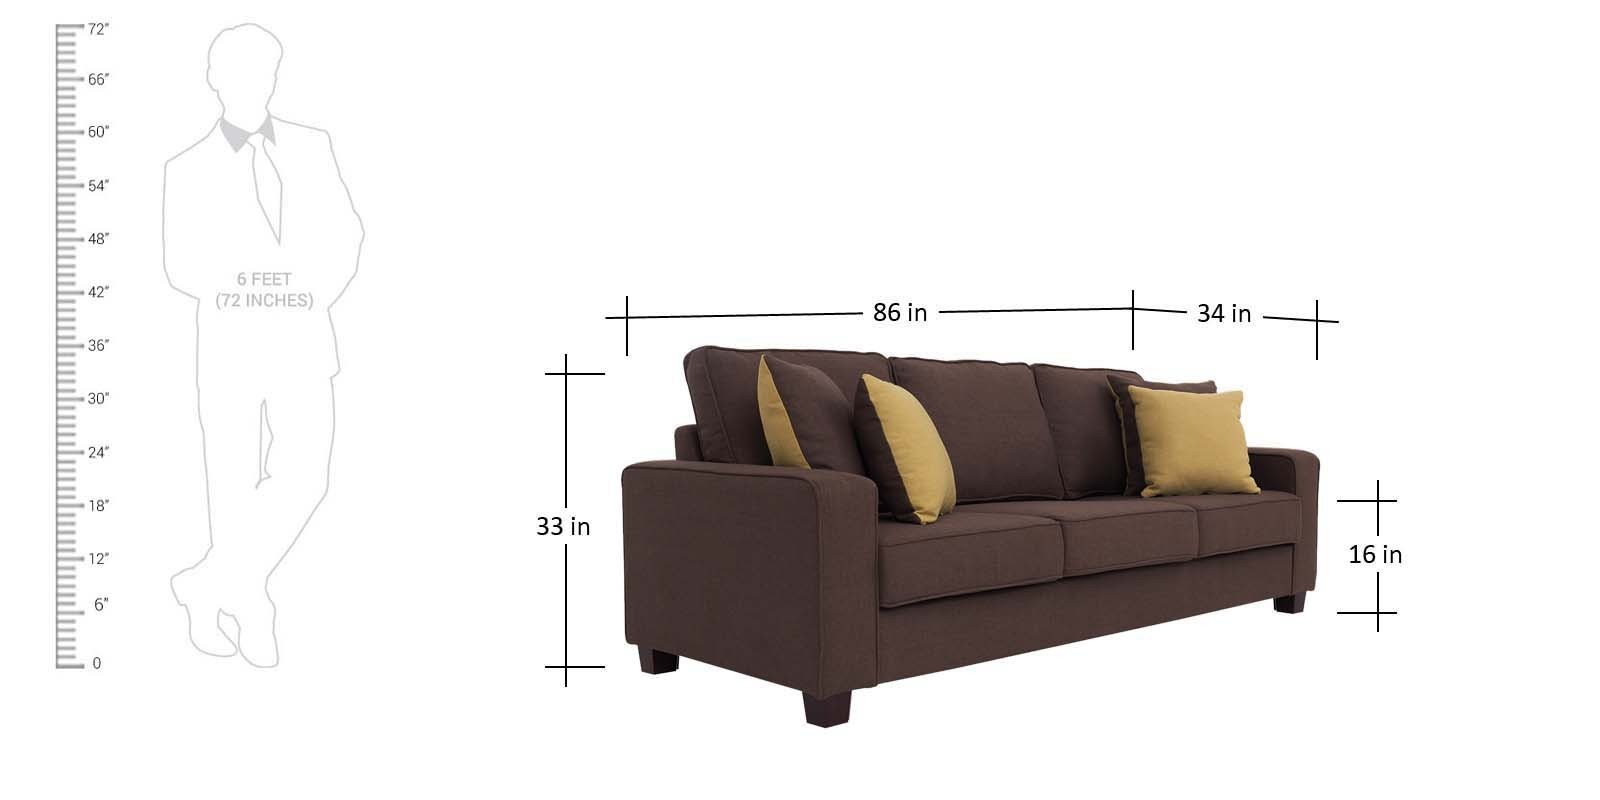Castilla Three Seater Sofa in Brown Colour by CasaCraft: (617, 341, 1329, 718)
